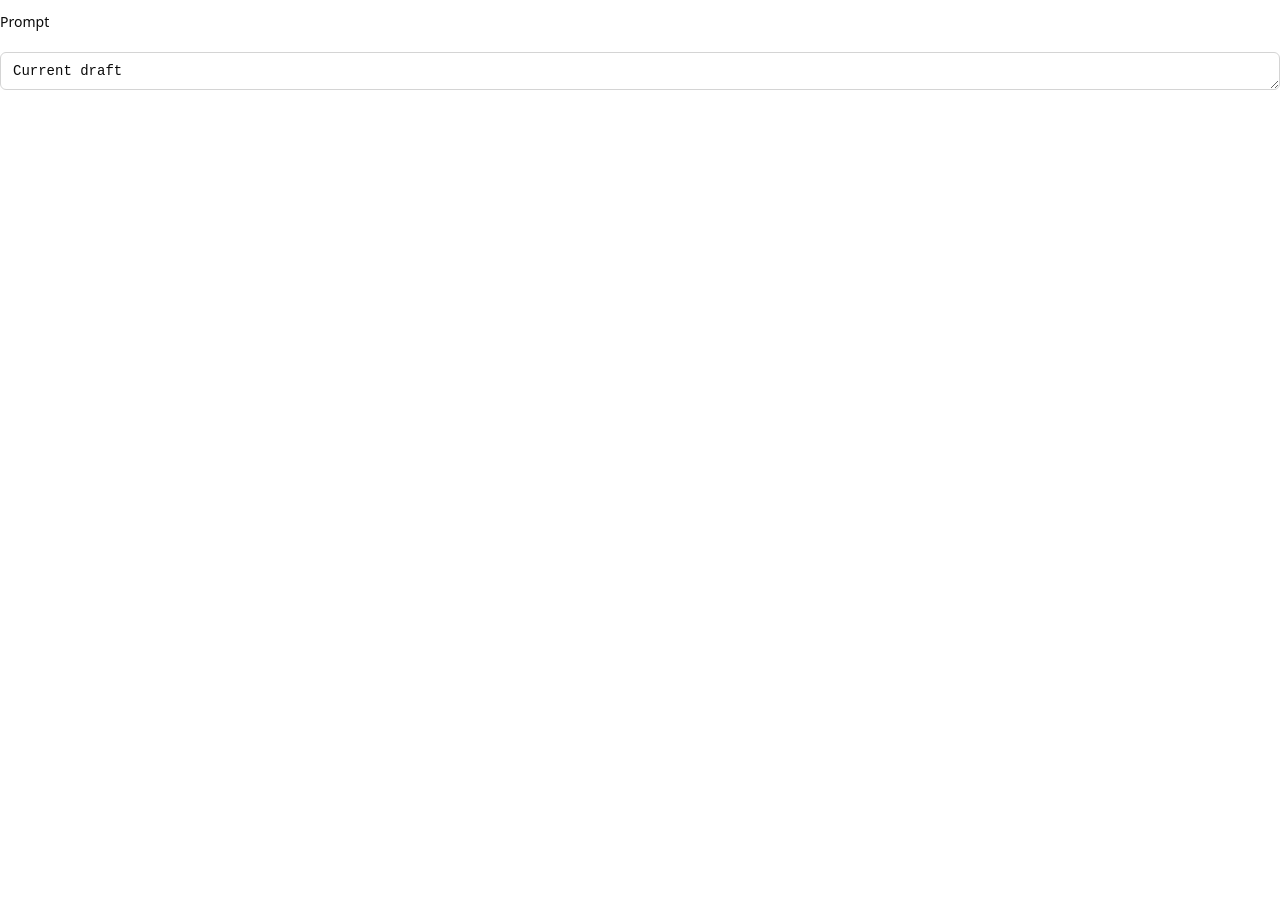
Test: search scopes are host filters and Escape preserves the draft and restores focus
Press r in the text box labelled "Prompt", box x1=0 y1=52 x2=1279 y2=90
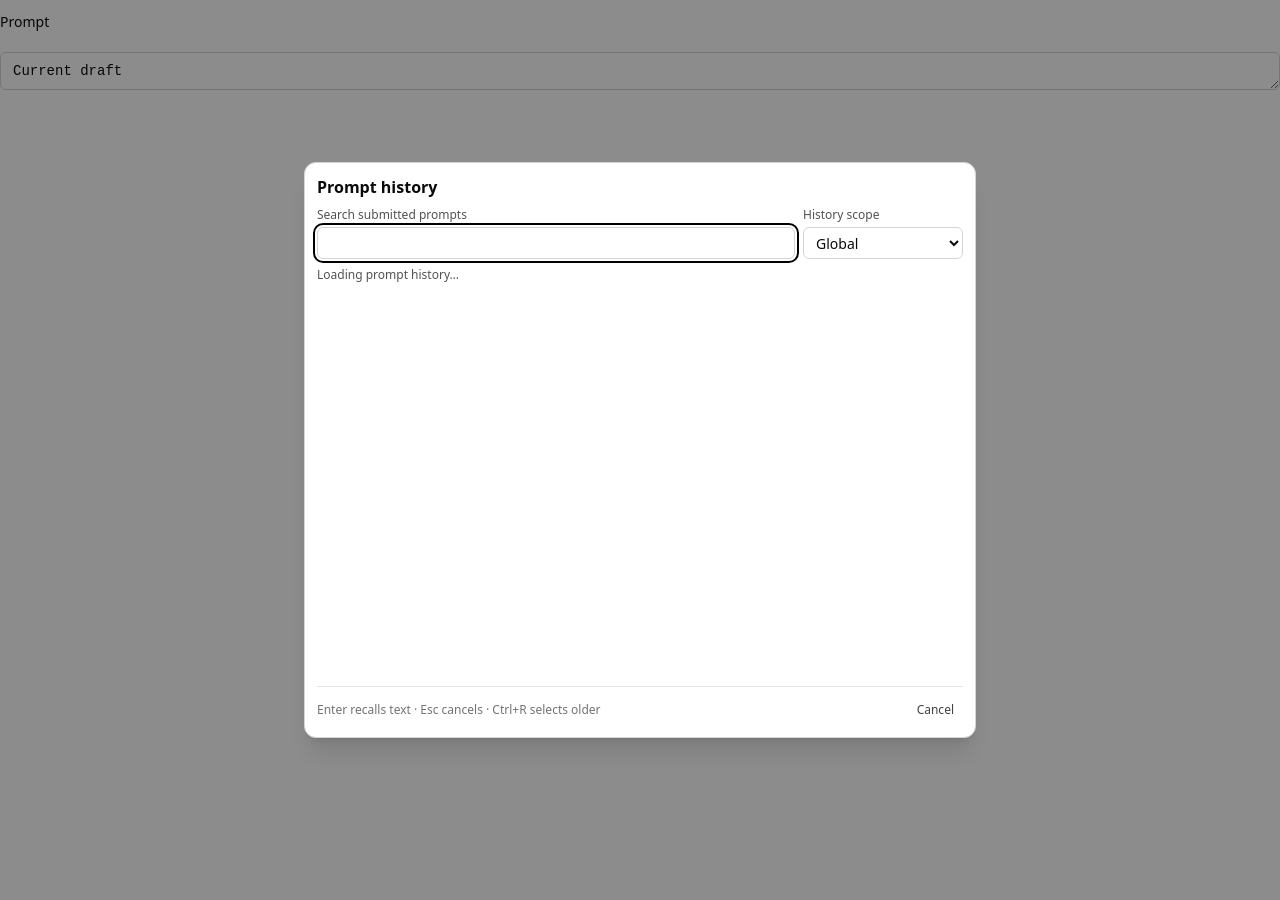
Select "This project" in the dropdown labelled "History scope". click: x=883, y=243
box: x1=803 y1=227 x2=963 y2=259
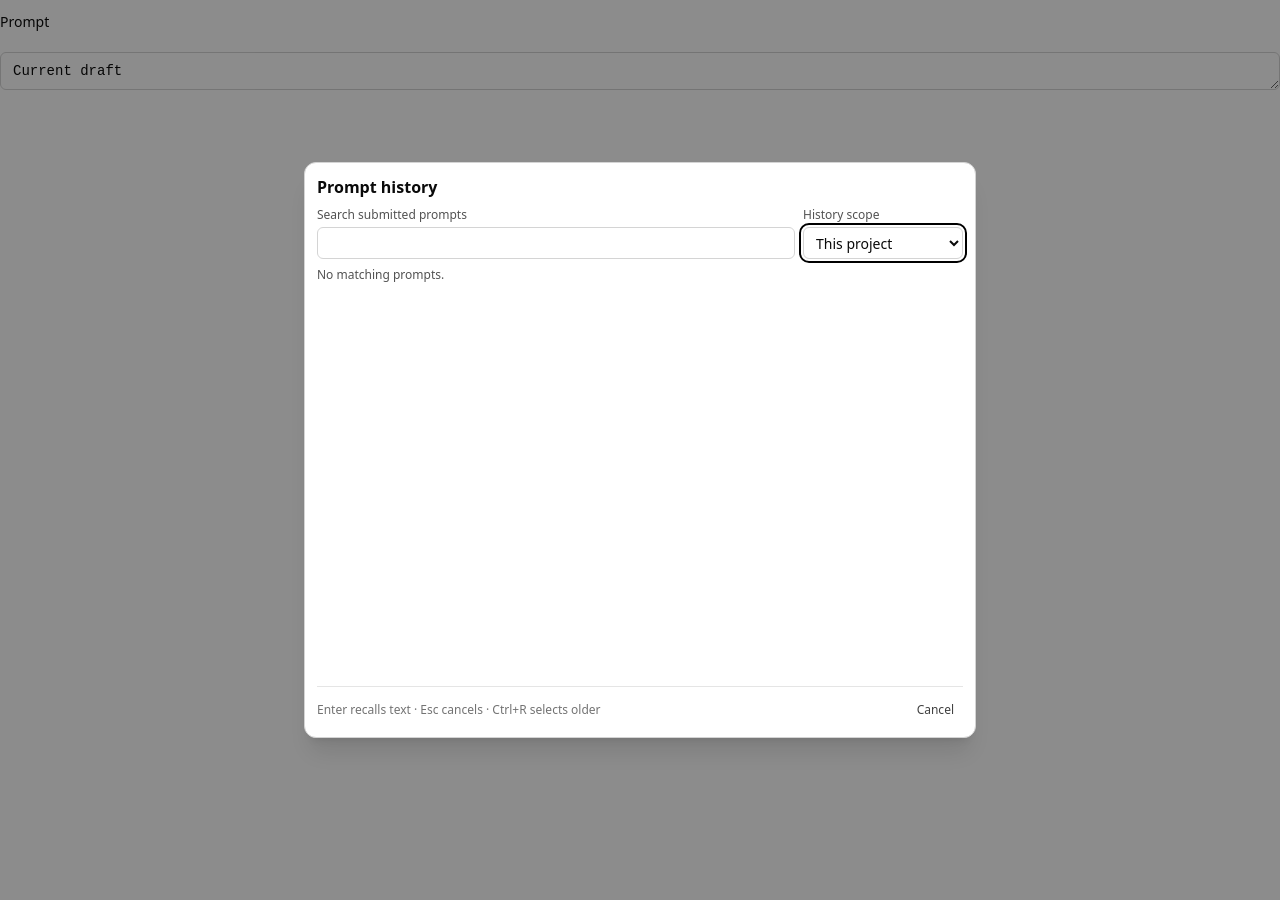
Select "This chat" in the dropdown labelled "History scope". click: x=883, y=243
box: x1=803 y1=227 x2=963 y2=259
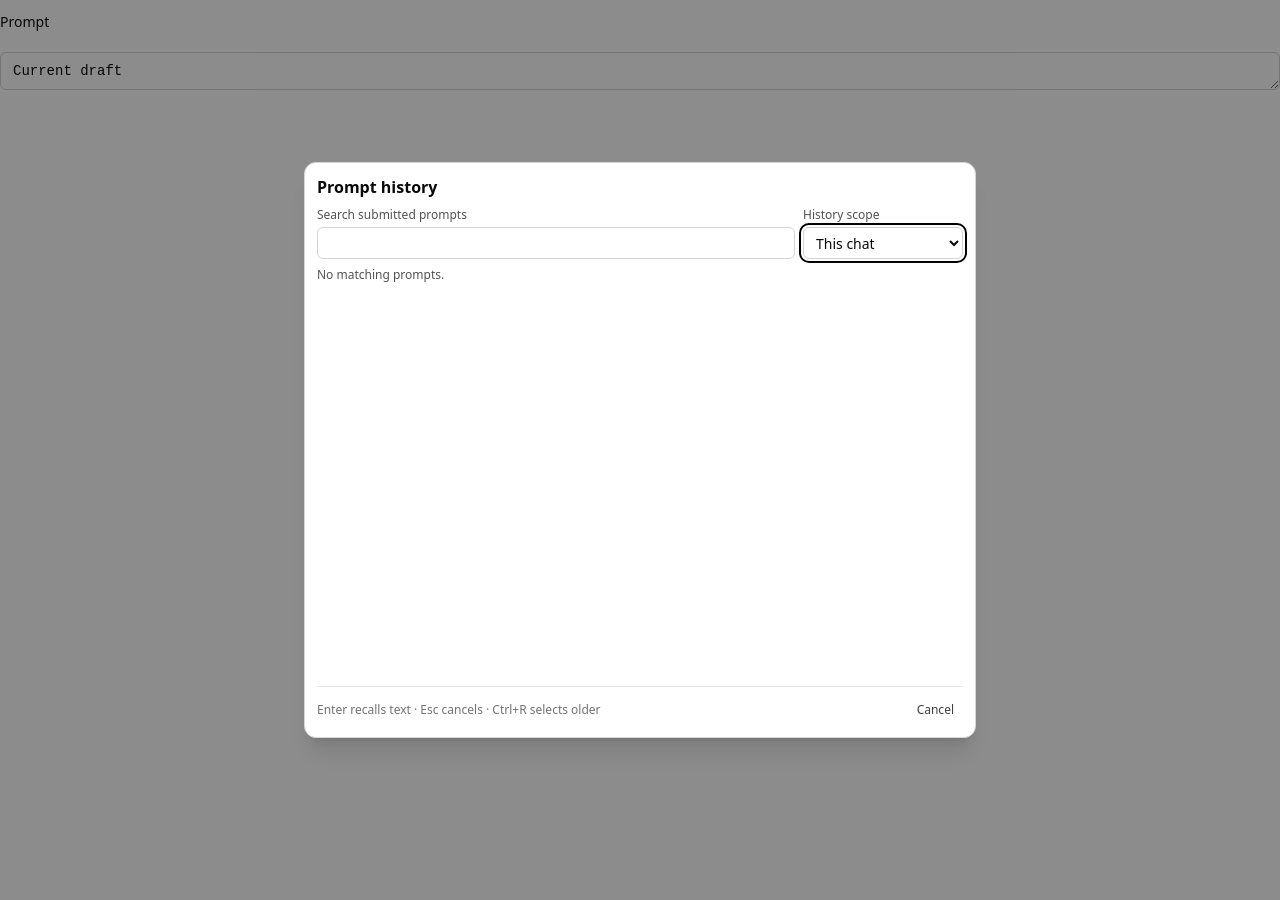
Press Escape
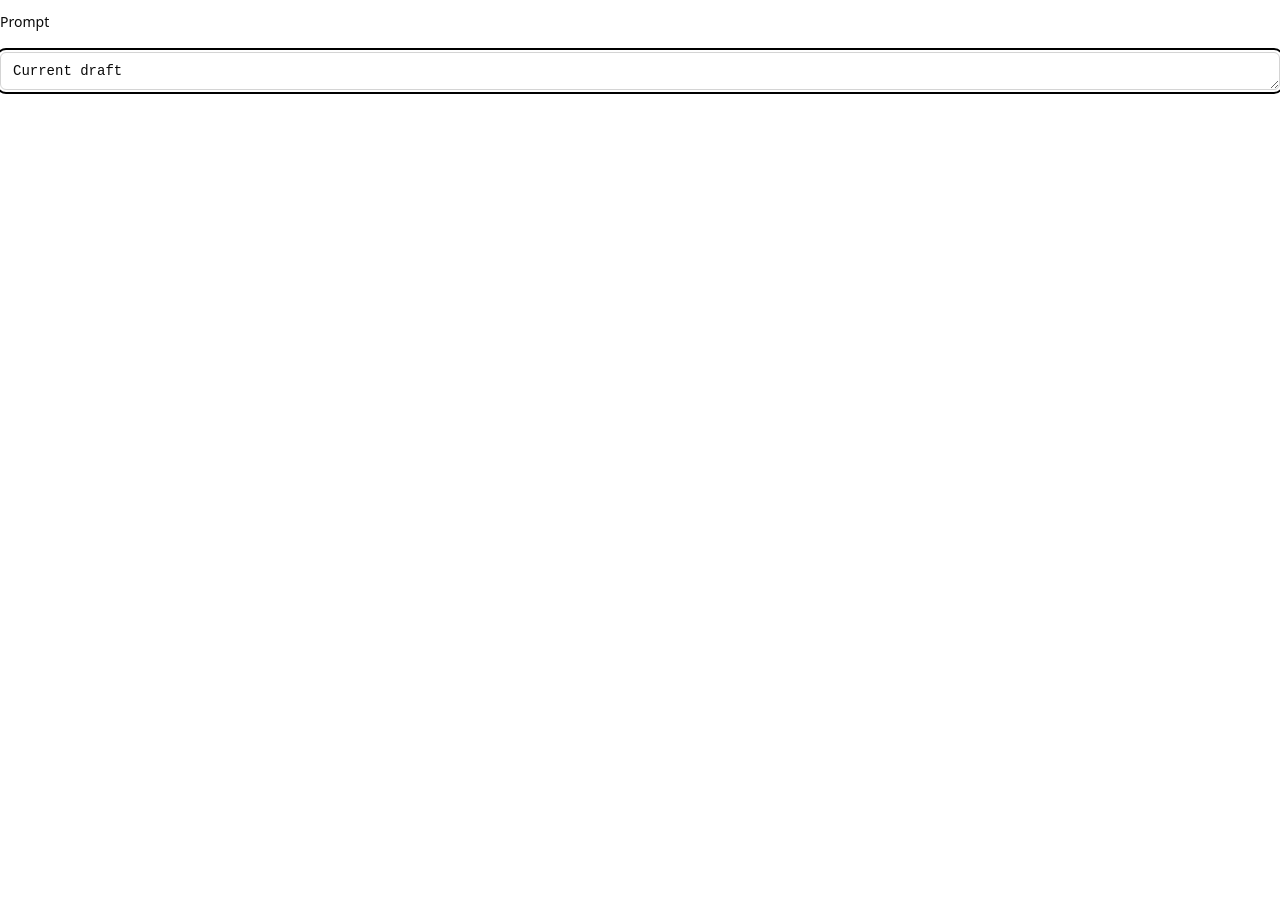
Now the dialog is gone
